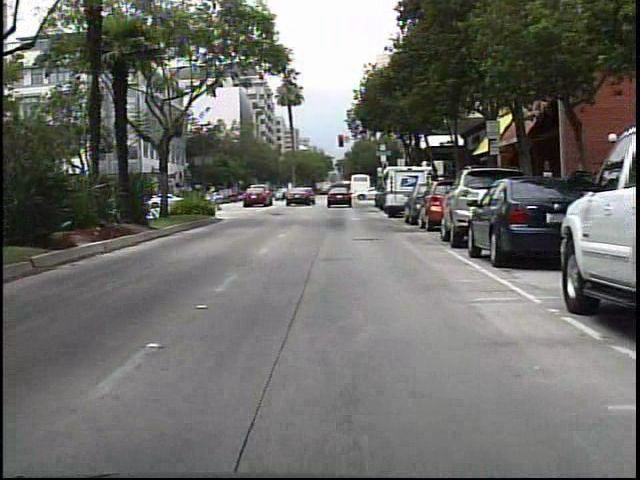person: (294, 183, 307, 205)
